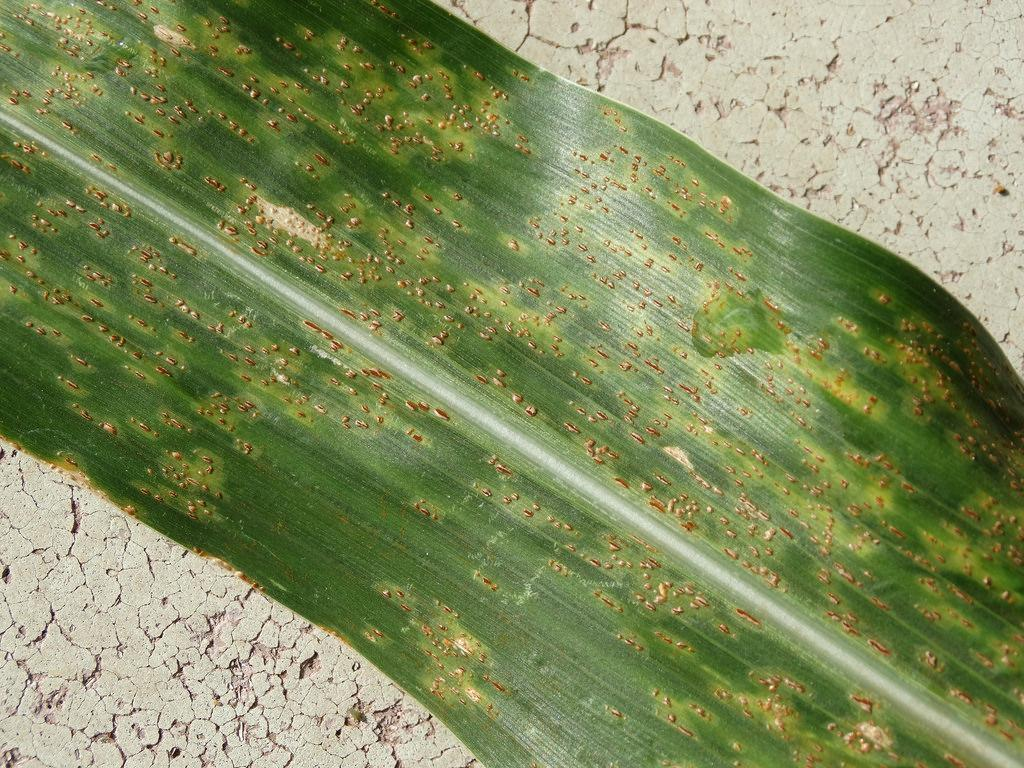Corn_Common_Rust: (530, 61, 1023, 768), (0, 0, 468, 459), (401, 464, 531, 759), (471, 36, 532, 455), (30, 462, 237, 529), (356, 579, 397, 677)
